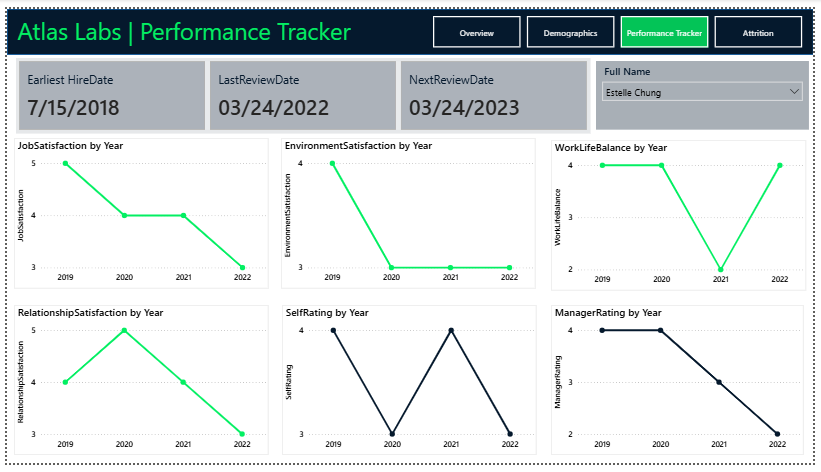

What the dashboard file says about the page in this screenshot:
{"tool":"powerbi","page":{"name":"Performance Tracker","canvas":[1280,720],"ordinal":2},"visuals":[{"type":"slicer","fields":{"Values":["DimEmployee.Full Name"]},"box":[935.6,82.8,338.5,109.4],"z":0},{"type":"cardVisual","fields":{"Data":["Min(DimEmployee.HireDate)","_Measures.LastReviewDate","_Measures.NextReviewDate"]},"box":[14.8,78.3,912,119.7],"z":1000},{"type":"lineChart","fields":{"Y":["_Measures.JobSatisfaction"],"Category":["DimDate.Date.Variation.Date Hierarchy.Year"]},"box":[11.8,205.5,404.2,238.9],"z":2000},{"type":"lineChart","fields":{"Category":["DimDate.Date.Variation.Date Hierarchy.Year"],"Y":["_Measures.SelfRating"]},"box":[436,470,403.5,238],"z":3000},{"type":"shape","box":[0,0,1280,72.6],"z":4000},{"type":"textbox","box":[11.8,4.4,551.3,63.6],"z":5000},{"type":"lineChart","fields":{"Y":["_Measures.EnvironmentSatisfaction"],"Category":["DimDate.Date.Variation.Date Hierarchy.Year"]},"box":[435.5,205.5,404.2,238.9],"z":6000},{"type":"lineChart","fields":{"Y":["_Measures.WorkLifeBalance"],"Category":["DimDate.Date.Variation.Date Hierarchy.Year"]},"box":[863.3,207.4,404.9,238.9],"z":7000},{"type":"lineChart","fields":{"Category":["DimDate.Date.Variation.Date Hierarchy.Year"],"Y":["_Measures.RelationshipSatisfaction"]},"box":[11.8,470,403.5,238],"z":8000},{"type":"lineChart","fields":{"Category":["DimDate.Date.Variation.Date Hierarchy.Year"],"Y":["_Measures.ManagerRating"]},"box":[863.2,470,400.6,238],"z":9000},{"type":"pageNavigator","box":[677,11.8,586.8,50.3],"z":10000}]}

Visuals, with their boxes in screenshot pixels (x1, y1, x2, y2), scaled from the page's 1280x720 canvas onto the 821x472 screenshot:
slicer - DimEmployee.Full Name: <bbox>600, 54, 817, 126</bbox>
cardVisual - Min(DimEmployee.HireDate) x _Measures.LastReviewDate: <bbox>9, 51, 594, 130</bbox>
lineChart - _Measures.JobSatisfaction x DimDate.Date.Variation.Date Hierarchy.Year: <bbox>8, 135, 267, 291</bbox>
lineChart - DimDate.Date.Variation.Date Hierarchy.Year x _Measures.SelfRating: <bbox>280, 308, 538, 464</bbox>
shape: <bbox>0, 0, 820, 48</bbox>
textbox: <bbox>8, 3, 361, 45</bbox>
lineChart - _Measures.EnvironmentSatisfaction x DimDate.Date.Variation.Date Hierarchy.Year: <bbox>279, 135, 539, 291</bbox>
lineChart - _Measures.WorkLifeBalance x DimDate.Date.Variation.Date Hierarchy.Year: <bbox>554, 136, 813, 293</bbox>
lineChart - DimDate.Date.Variation.Date Hierarchy.Year x _Measures.RelationshipSatisfaction: <bbox>8, 308, 266, 464</bbox>
lineChart - DimDate.Date.Variation.Date Hierarchy.Year x _Measures.ManagerRating: <bbox>554, 308, 811, 464</bbox>
pageNavigator: <bbox>434, 8, 811, 41</bbox>
